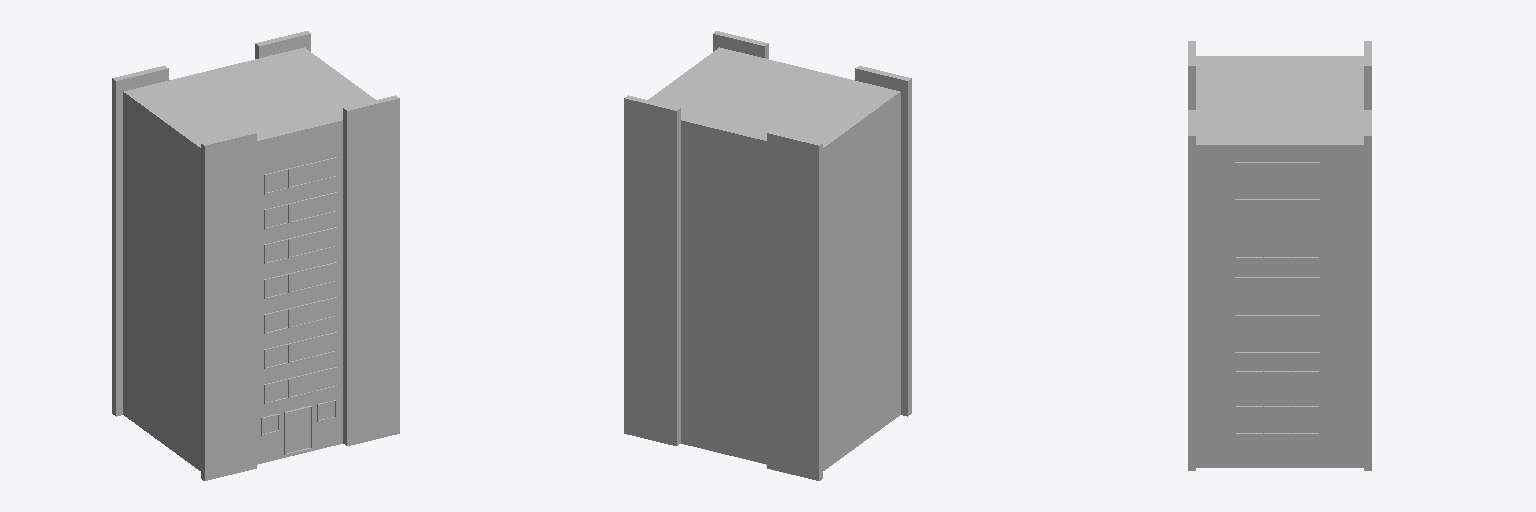
File: building7.obj
3 renders of one model, left to right at view 1: azimuth 30°, elevation 25°; view 2: azimuth 150°, elevation 25°; view 3: azimuth 270°, elevation 25°, orthographic.
Parts seen in each view (by area): view 1: polySurface875; view 2: polySurface875; view 3: polySurface875.
Part boxes in pixels (x1,y1,x2,y2): polySurface875: (112,31,399,480); polySurface875: (624,31,911,480); polySurface875: (1188,41,1371,470).
Bounding box in the file's own units: 4.94 × 8.11 × 4.05.